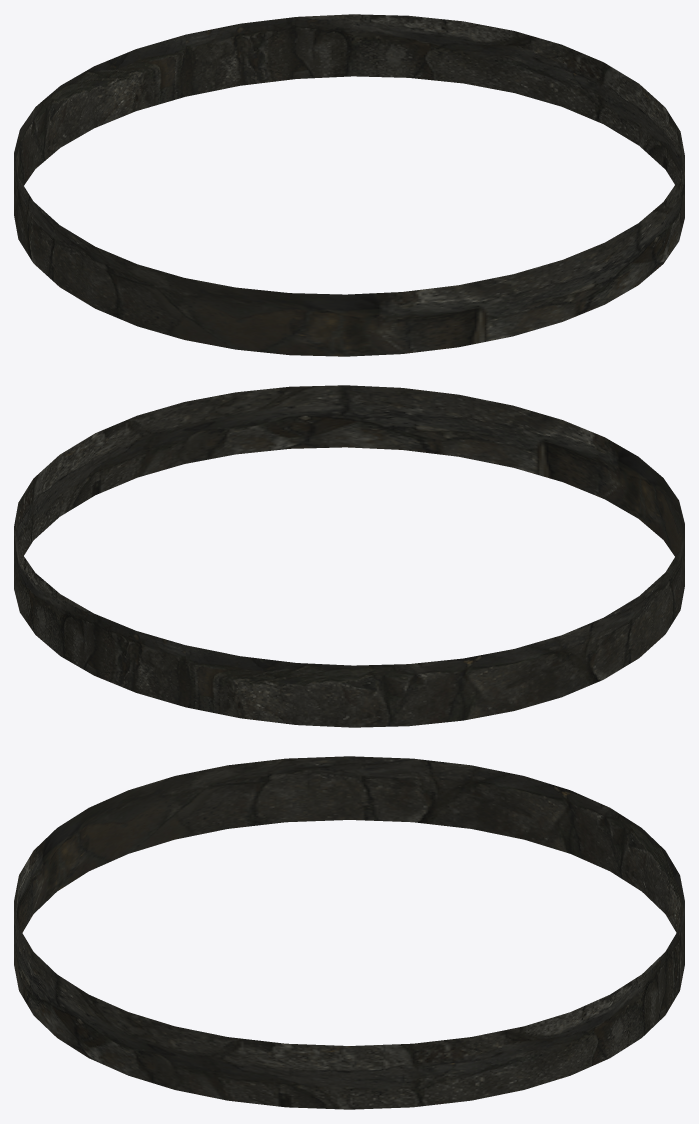
File: suidao_5.glb
3 views of the same model, one above another, from view 1: azimuth 30°, elevation 25°; view 2: azimuth 150°, elevation 25°; view 3: azimuth 270°, elevation 25° (orthographic). The views are drawn at different scales.
Parts seen in each view (by area): view 1: XSBYSZK_03; view 2: XSBYSZK_03; view 3: XSBYSZK_03.
Boxes of the visible parts, x1=… form: XSBYSZK_03: x1=14, y1=14, x2=684, y2=356; XSBYSZK_03: x1=14, y1=385, x2=684, y2=727; XSBYSZK_03: x1=14, y1=756, x2=684, y2=1109.
Bounding box in the file's own units: 8.79 × 0.9002 × 8.6.
1 material, 1 textured.
